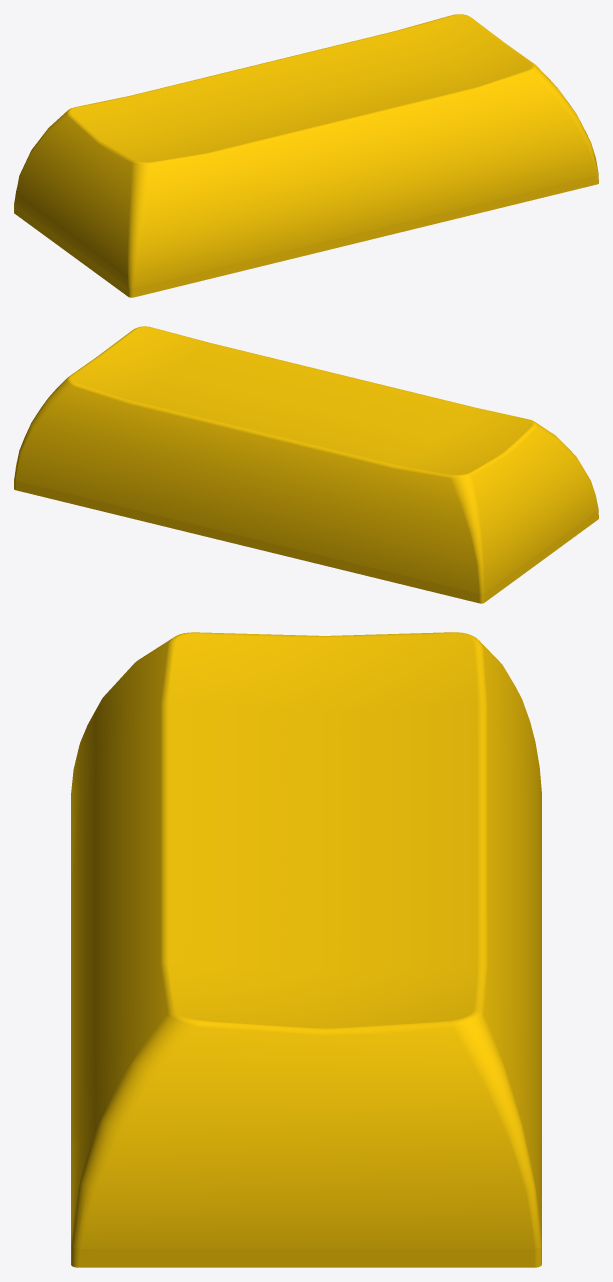
The model's file is KAT_2_25u_r3.glb.
The picture shows the model from 3 angles, top to bottom: view 1: azimuth 30°, elevation 25°; view 2: azimuth 150°, elevation 25°; view 3: azimuth 270°, elevation 25°; orthographic projection. The views are drawn at different scales.
Visible parts, largest first — view 1: Object.066; view 2: Object.066; view 3: Object.066.
Boxes of the visible parts, x1=… form: Object.066: x1=14, y1=14, x2=598, y2=297; Object.066: x1=14, y1=326, x2=598, y2=603; Object.066: x1=71, y1=632, x2=541, y2=1267.
Size of the model in its own units: 41.95 by 9.06 by 18.2.
